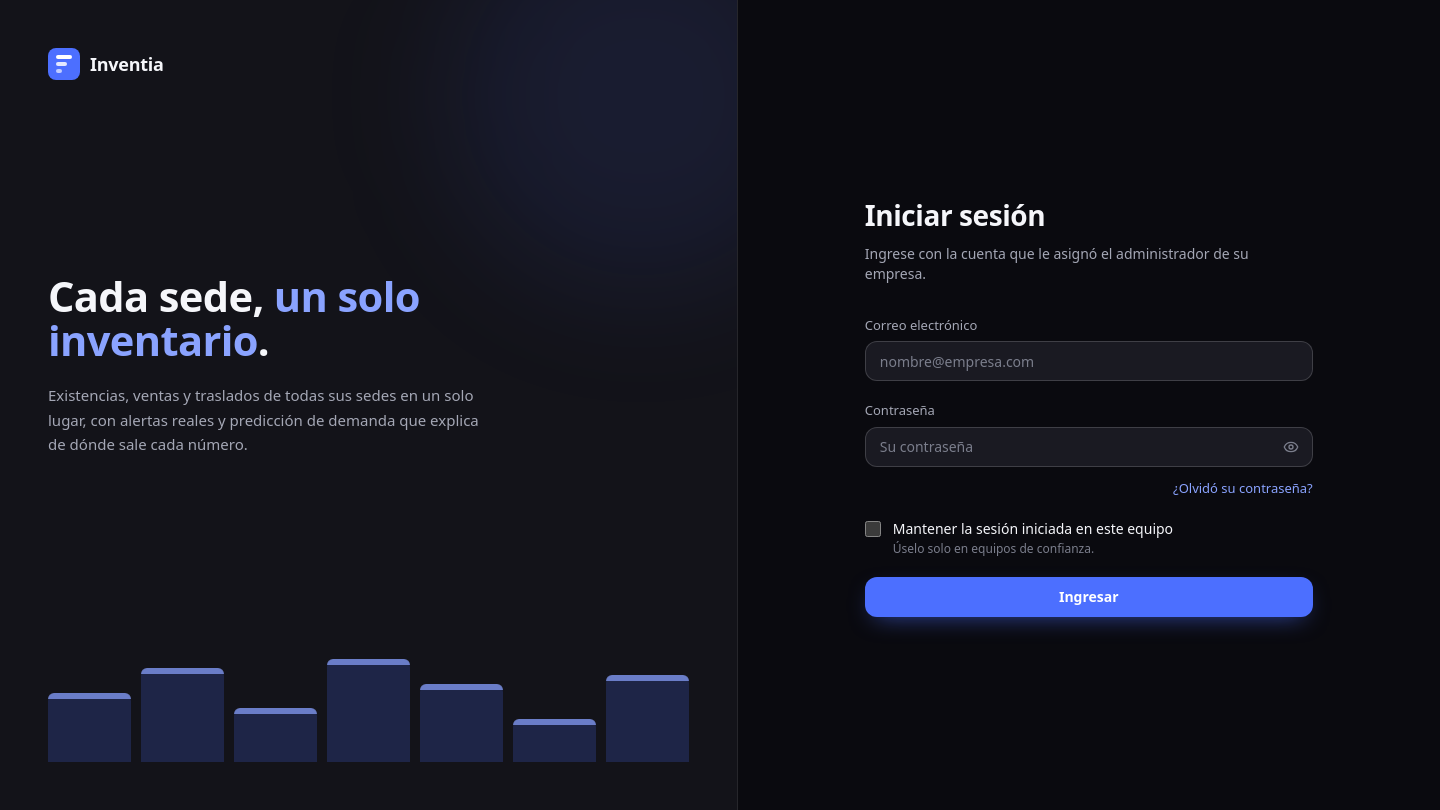
<LoginPage> › muestra el mensaje del servidor cuando las credenciales son incorrectas
Type "ana@empresa.com" into the field labelled "Correo electrónico".
click(1089, 361); type("ana@empresa.com")  # box [865, 341, 1313, 381]
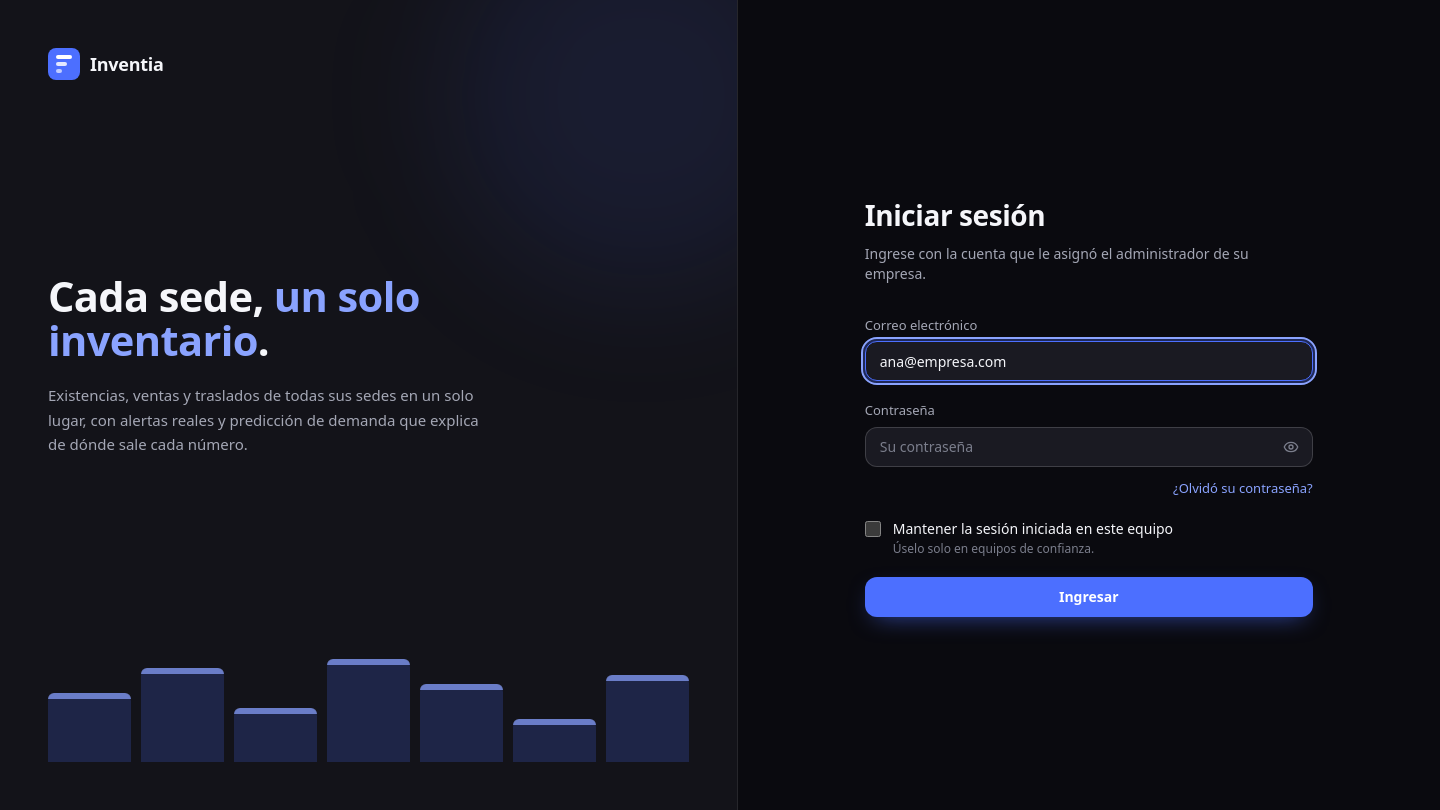
Type "incorrecta" into the password field labelled "Contraseña".
click(1089, 446); type("incorrecta")  # box [865, 426, 1313, 466]
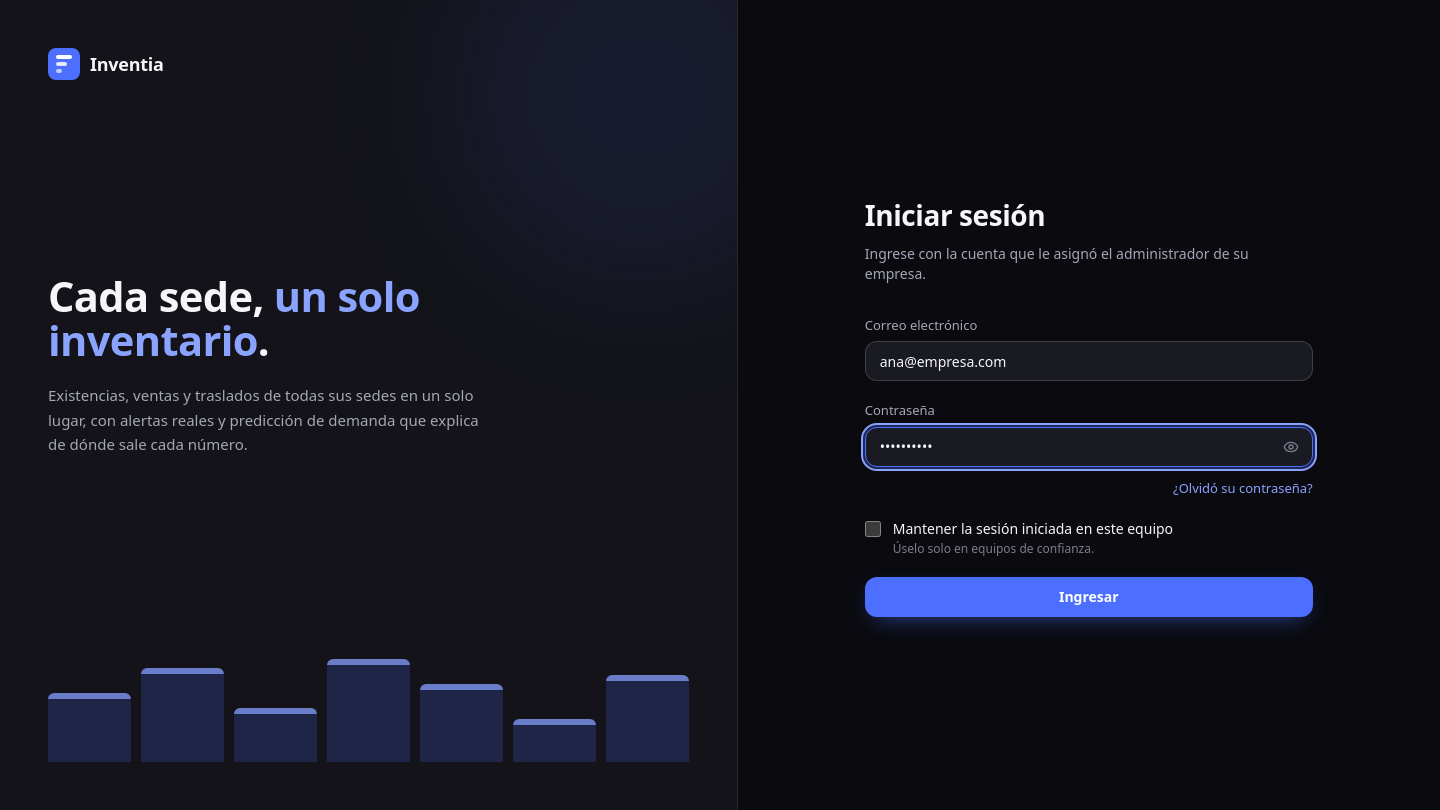
Click the button "Ingresar".
click(1089, 596)  # box [865, 576, 1313, 616]
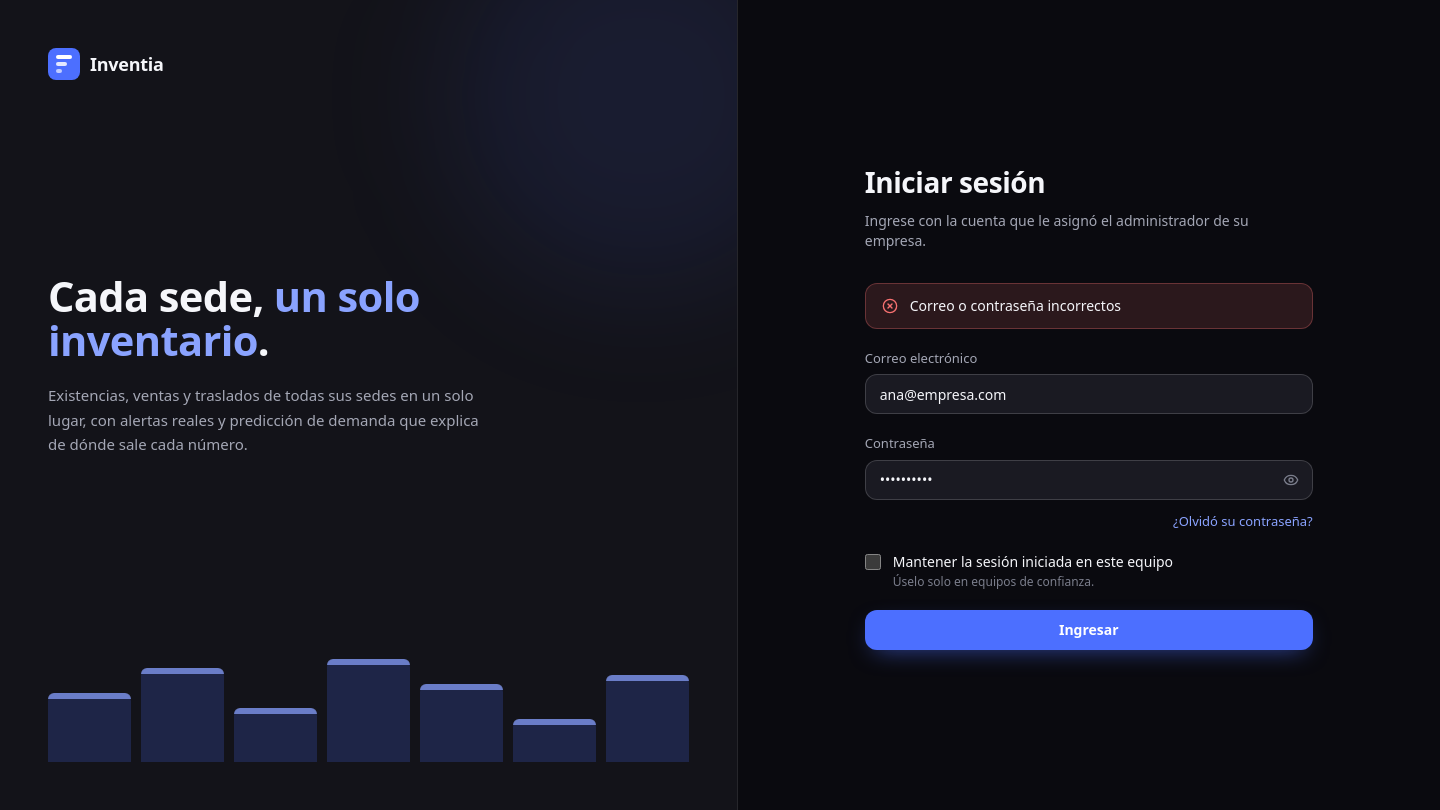
Now the message reads "Correo o contraseña incorrectos", box [910, 296, 1121, 314]
